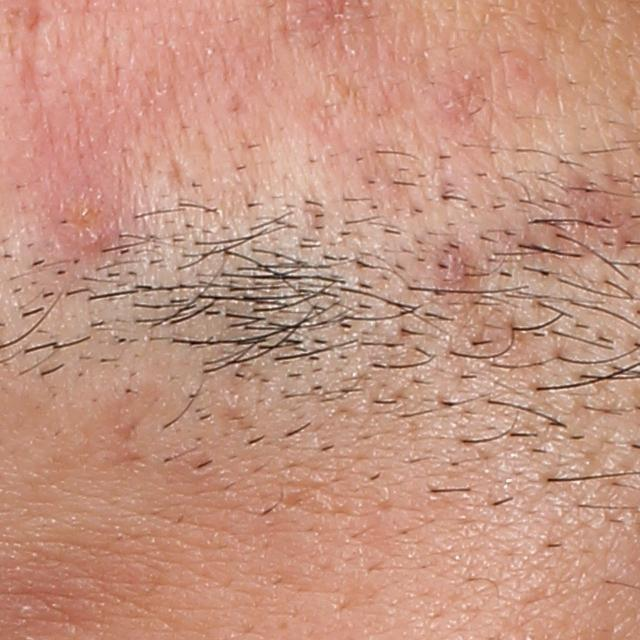atrophic_scar: (166, 151, 189, 195)
